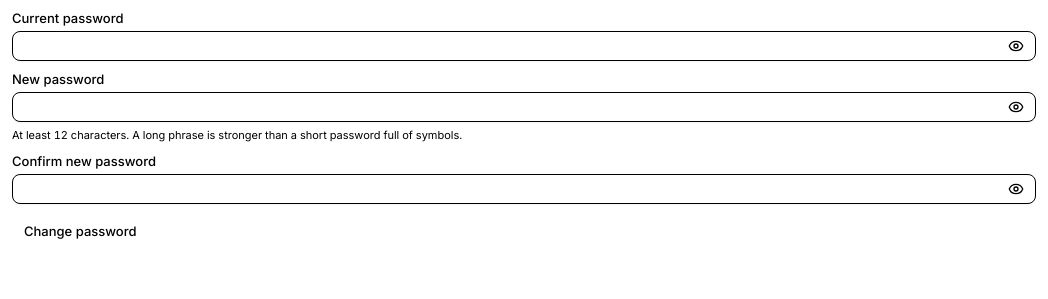
it: PasswordForm › success clears every field and announces the result
In the password field labelled "Current password": (524, 46) [12, 31, 1036, 61], type "old password long"
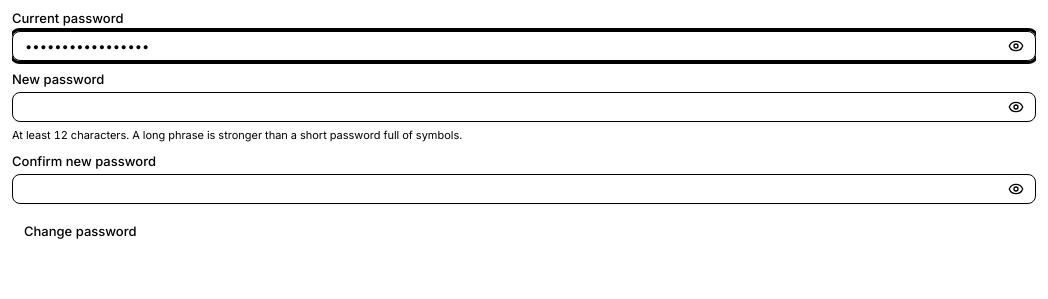
In the password field labelled "New password": (524, 107) [12, 92, 1036, 122], type "Correct horse battery 9"
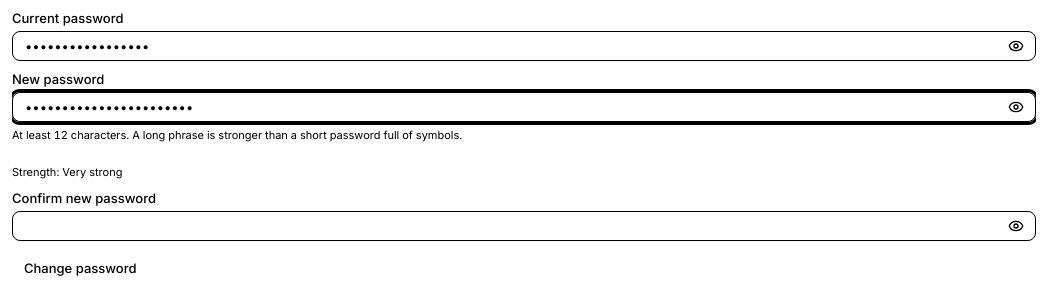
Click the button "Change password": (80, 268) [12, 253, 148, 283]
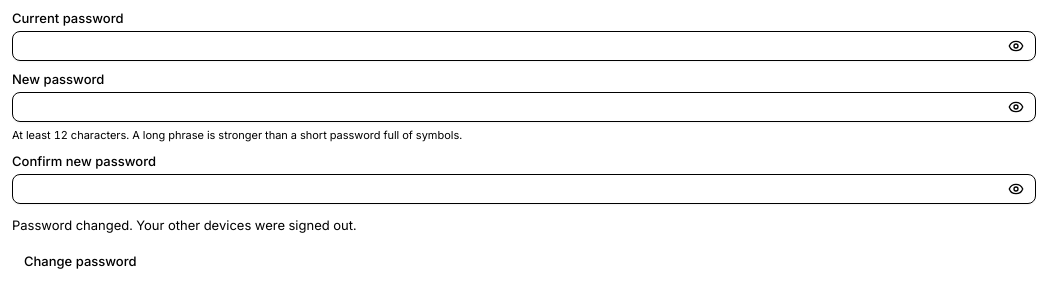
expect the message reads "Password changed. Your other devices were signed out.": met, box [12, 217, 356, 233]
expect the password field labelled "Current password" is empty: met, box [12, 31, 1036, 61]
expect the password field labelled "New password" is empty: met, box [12, 92, 1036, 122]
